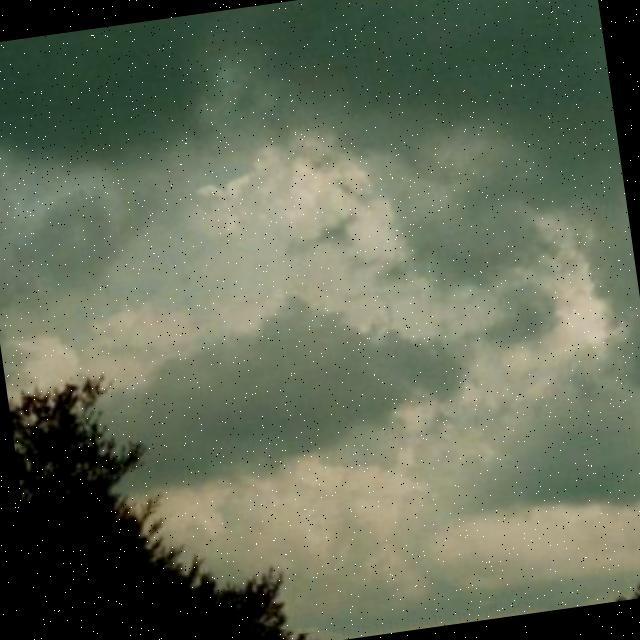Sc: (1, 1, 637, 362)
